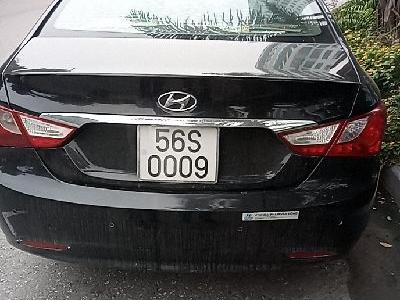lisence: (135, 119, 221, 184)
